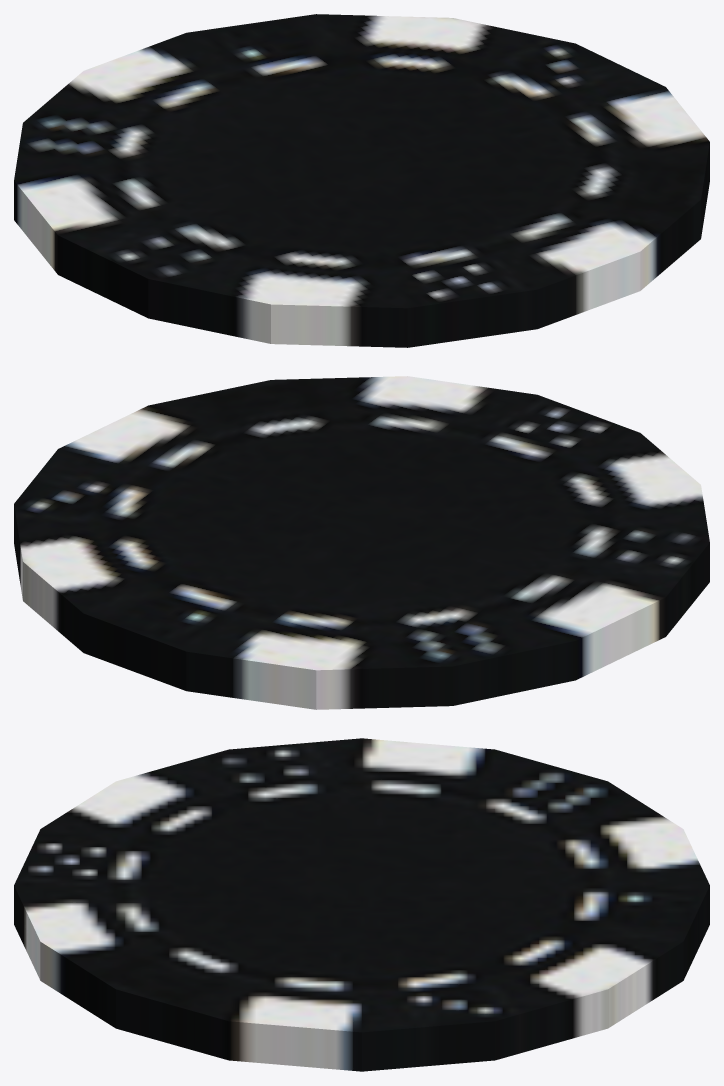
The model's file is AllChips.fbx.
The picture shows the model from 3 angles, top to bottom: view 1: azimuth 30°, elevation 25°; view 2: azimuth 150°, elevation 25°; view 3: azimuth 270°, elevation 25°; orthographic projection.
Parts seen in each view (by area): view 1: CHIPS:Layer1; view 2: CHIPS:Layer1; view 3: CHIPS:Layer1.
Part boxes in pixels (x1=…): CHIPS:Layer1: x1=14, y1=14, x2=709, y2=347; CHIPS:Layer1: x1=14, y1=376, x2=709, y2=709; CHIPS:Layer1: x1=14, y1=738, x2=709, y2=1071.
Bounding box in the file's own units: 3.2 × 0.199 × 3.2.
